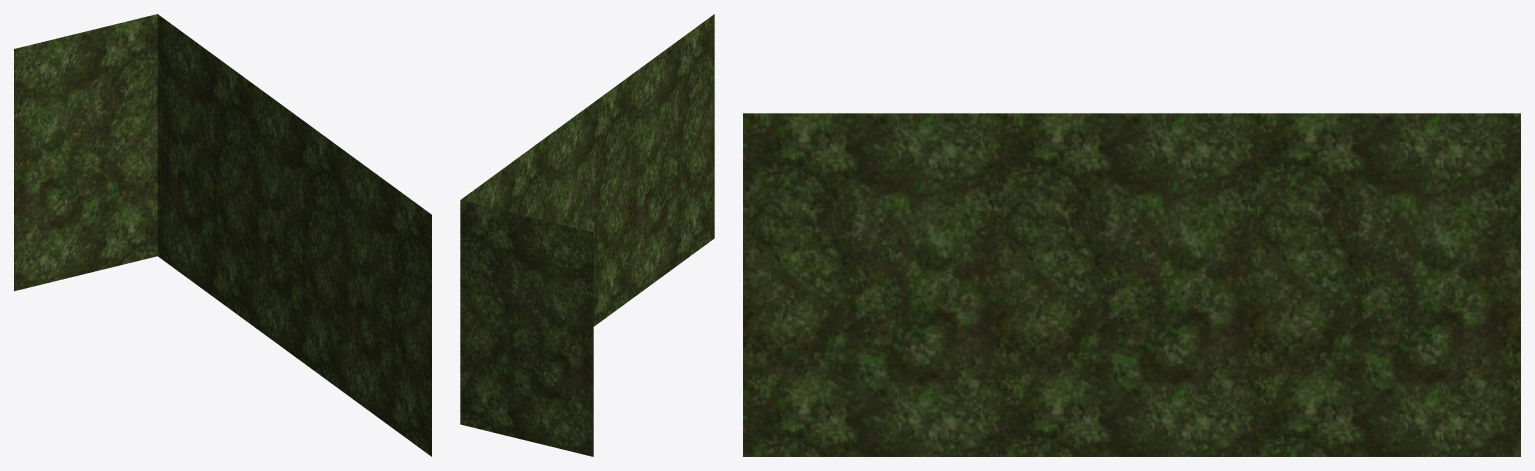
Rendered from OVERHILL_A_01_LINE195.fbx.
3 views of the same model, side by side, from view 1: azimuth 30°, elevation 25°; view 2: azimuth 150°, elevation 25°; view 3: azimuth 270°, elevation 25° (orthographic). The views are drawn at different scales.
Visible parts, largest first — view 1: OVERHILL_A_01_LINE195; view 2: OVERHILL_A_01_LINE195; view 3: OVERHILL_A_01_LINE195.
Boxes of the visible parts, <box> form: OVERHILL_A_01_LINE195: <box>14,14,431,456</box>; OVERHILL_A_01_LINE195: <box>460,14,714,456</box>; OVERHILL_A_01_LINE195: <box>743,113,1520,456</box>.
Size of the model in its own units: 24234 by 39068 by 80148.
1 material, 1 textured.
